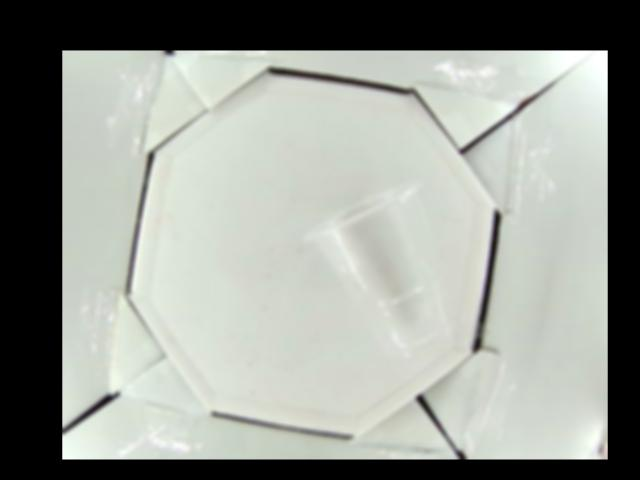Cup: (305, 178, 458, 357)
